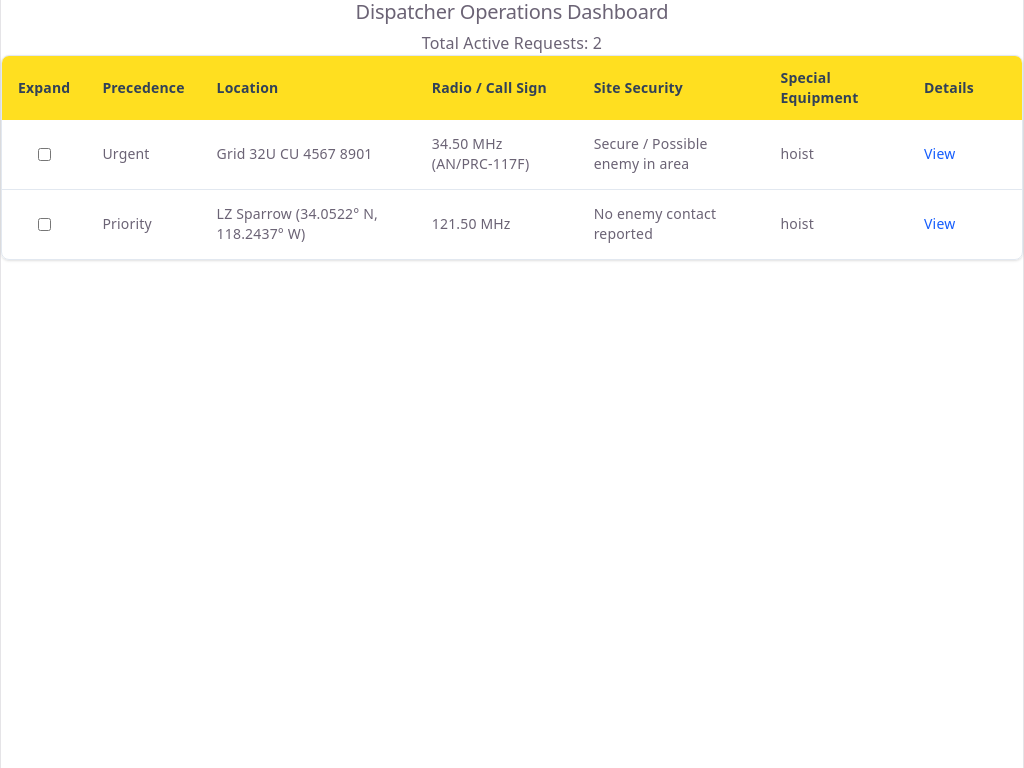
Scenario: Dispatcher › should display a model with all nine-line details when view link is clicked
Expected: the text "Total Active Requests: 2" is shown, [422,32,602,54]
Click the cell named "view-1": (949, 155) [908,120,990,189]
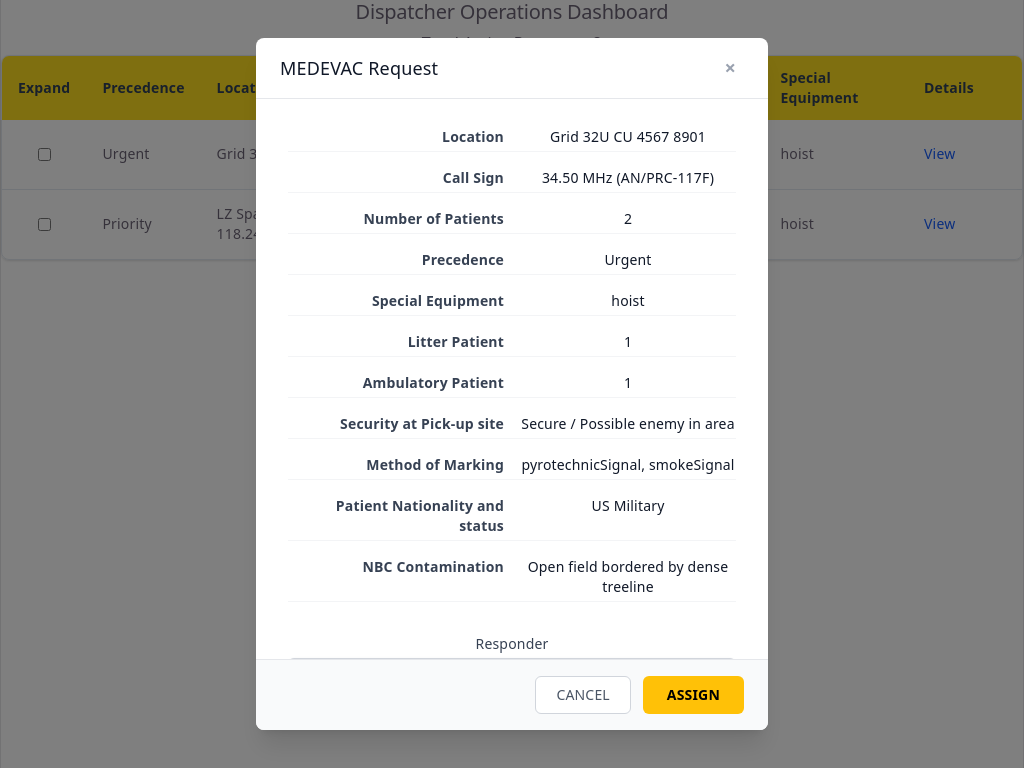
Result: the heading "MEDEVAC Request" is shown at [280,54,438,82]
